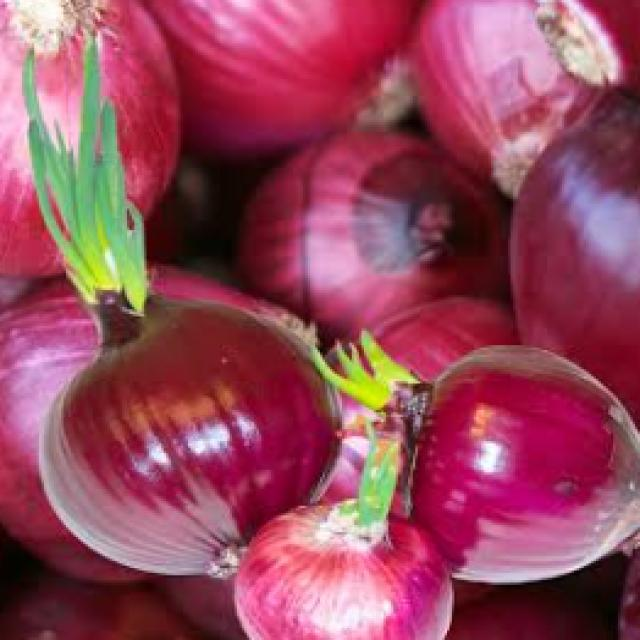mechanical_damage: (412, 0, 615, 189)
sprouting: (2, 266, 281, 578), (2, 5, 174, 273)
